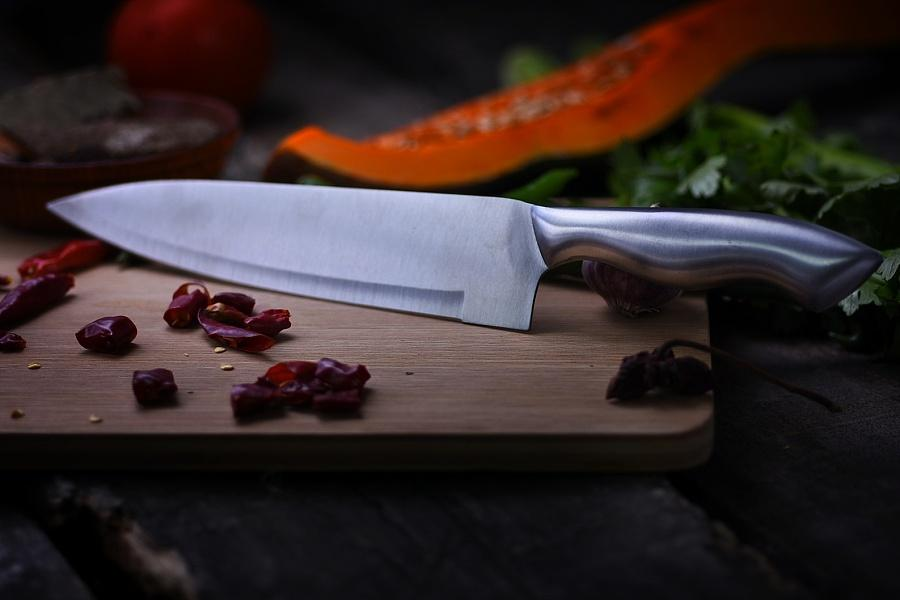knife: (13, 135, 880, 434)
